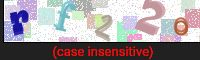2: (133, 1, 166, 37), (89, 6, 119, 41)
f: (53, 2, 79, 36)
o: (171, 16, 191, 37)
r: (7, 7, 33, 37)
